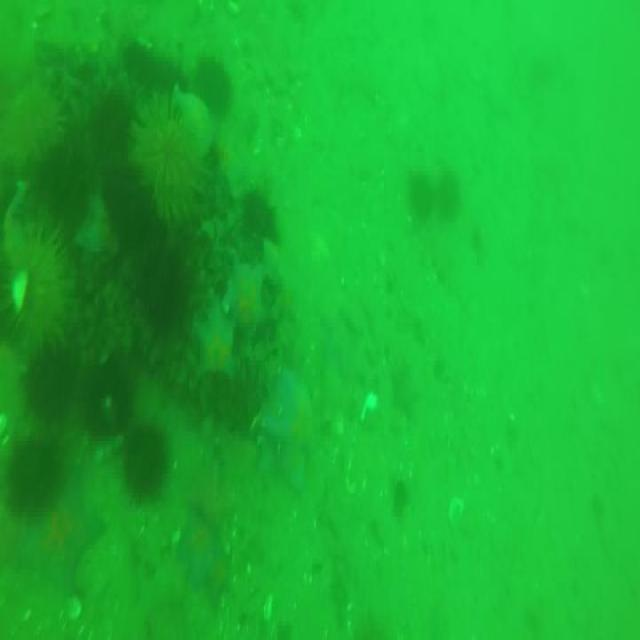echinus: (126, 100, 199, 214), (103, 167, 168, 275), (33, 136, 93, 234), (138, 252, 191, 336), (85, 356, 138, 440), (12, 425, 61, 515), (122, 36, 188, 95), (24, 346, 77, 417), (121, 419, 166, 501), (194, 54, 231, 112), (241, 188, 279, 243), (437, 173, 464, 220), (410, 171, 436, 218)
scallop: (11, 272, 29, 314), (448, 498, 462, 524)
starfish: (265, 360, 318, 490), (196, 296, 236, 387), (227, 254, 272, 332), (321, 298, 357, 382)
